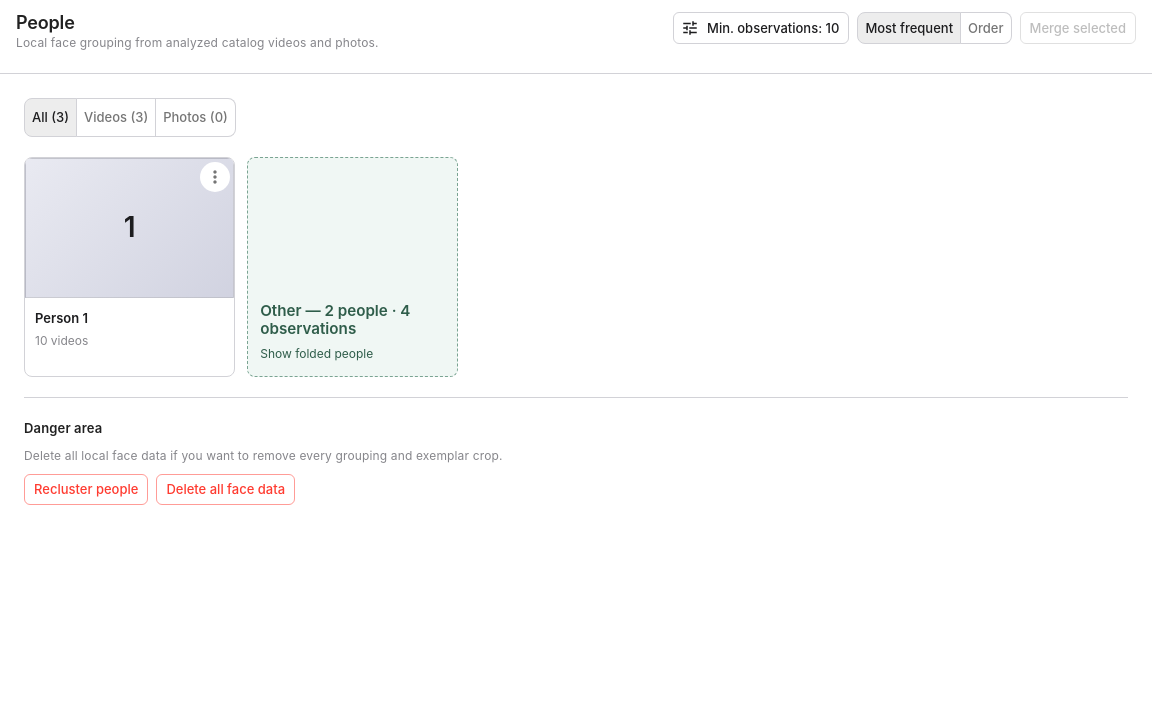
Test case: PeopleView media chips › expands folded people in the same grid and returns to the main people scope
Expected: the element with test id "people-grid" is shown, [24,157,458,377]
What coordinates should you click on to do the following:
click the button with test id "people-other-tile"
I would click on:
 (353, 267)
Its box is [247,157,458,377].
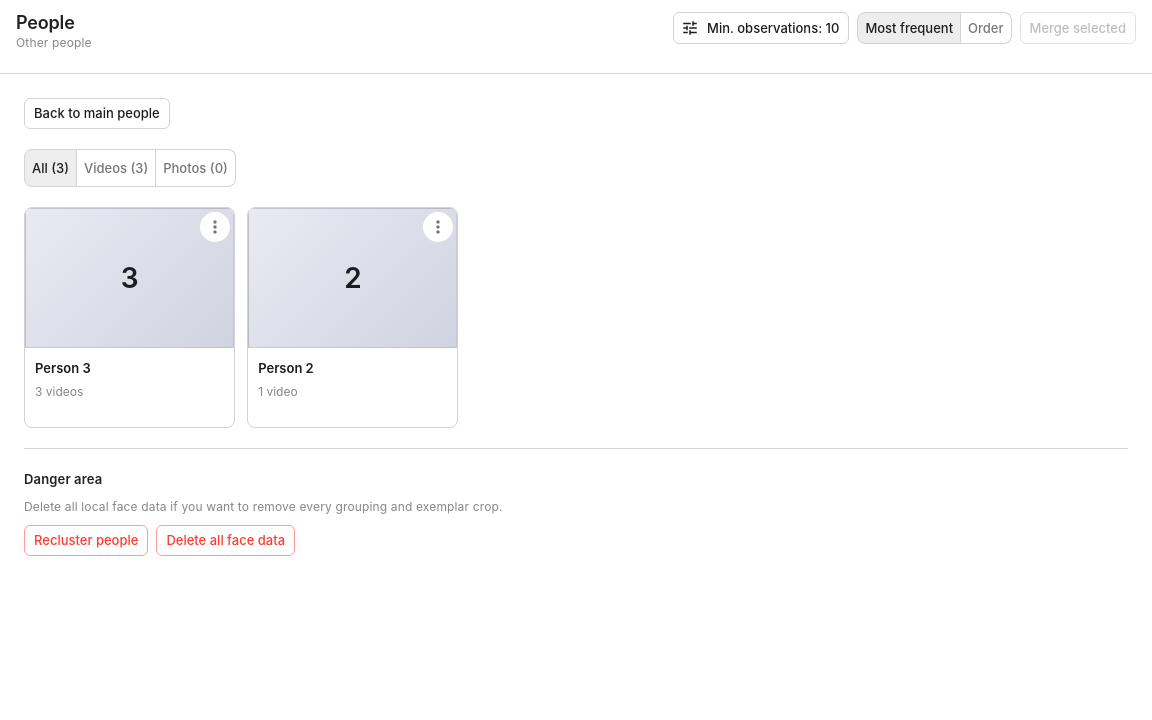
Expected: the text with test id "people-scope" reads "Other people", [16,35,92,50]
Expected: the heading "Person 2" is shown, [258,360,314,376]
Expected: the heading "Person 3" is shown, [35,360,91,376]
What coordinates should you click on to do the following:
click the button with test id "people-back-main"
I would click on:
 (97, 113)
Its box is [24,98,170,129].
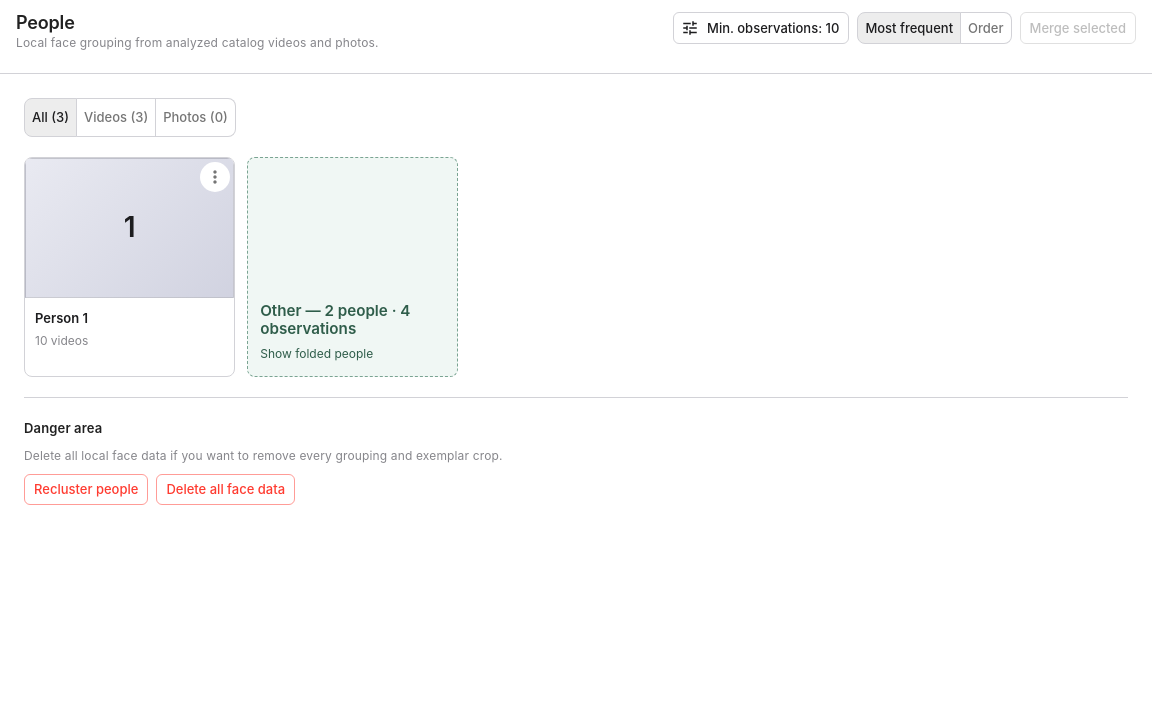
Expected: the button with test id "people-back-main" is gone
Expected: the button with test id "people-other-tile" is shown, [247,157,458,377]
